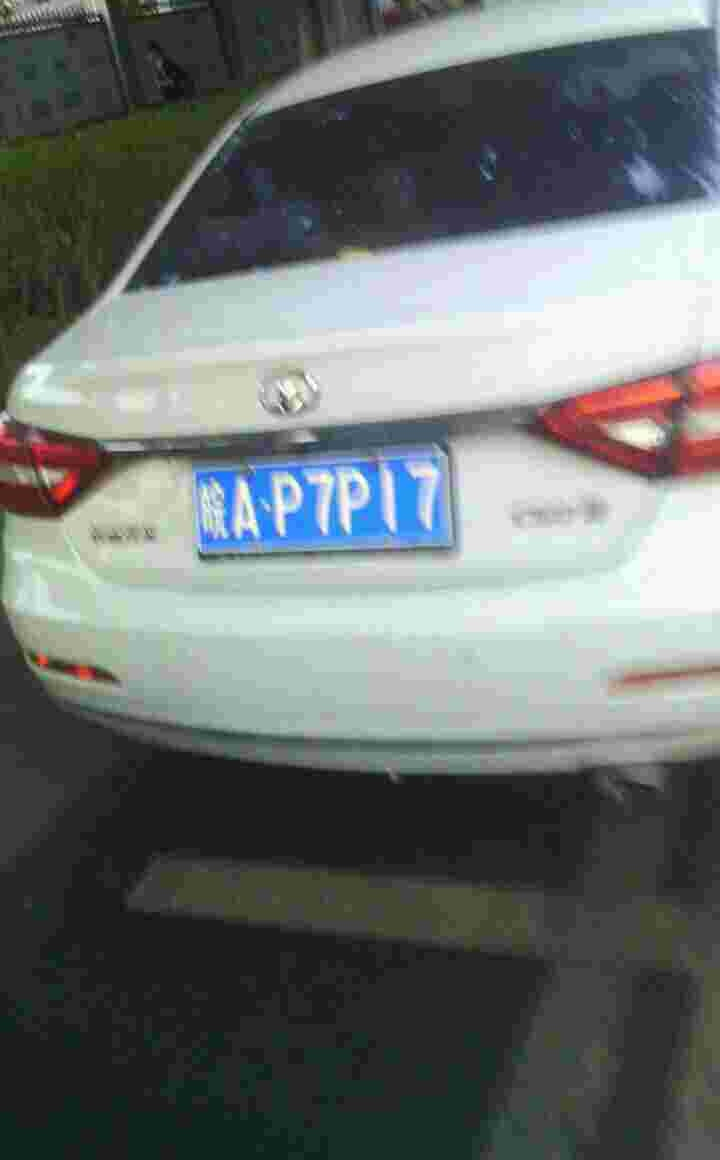license_plate: (196, 461, 442, 554)
